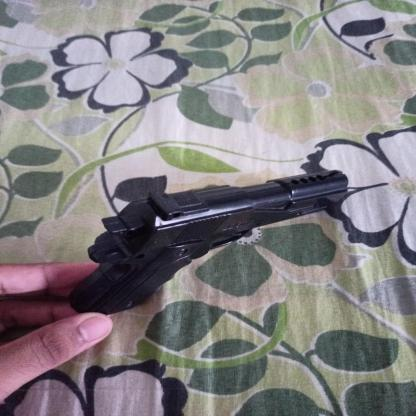handgun: (73, 171, 350, 312)
